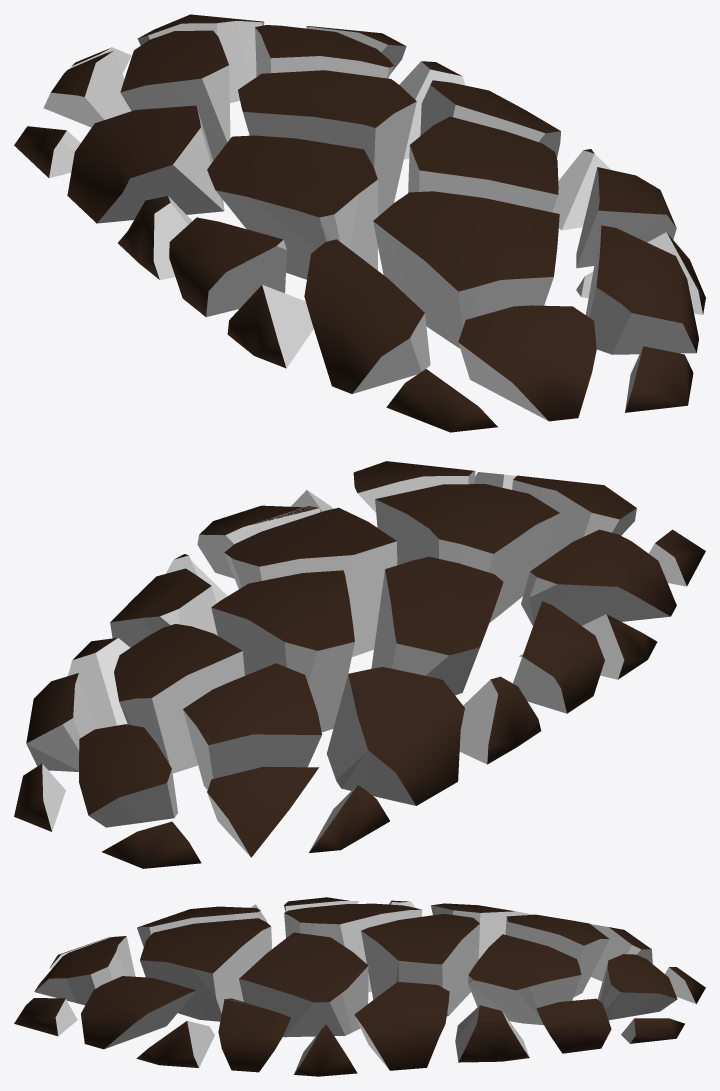
File: Buriedgraveshards.fbx
The picture shows the model from 3 angles, top to bottom: view 1: azimuth 30°, elevation 25°; view 2: azimuth 150°, elevation 25°; view 3: azimuth 270°, elevation 25°; orthographic projection. The views are drawn at different scales.
Parts seen in each view (by area): view 1: buried grave2_cell.009, buried grave2_cell.008, buried grave2_cell.012, buried grave2_cell.013, buried grave2_cell, buried grave2_cell.004, buried grave2_cell.014, buried grave2_cell.010, buried grave2_cell.007, buried grave2_cell.003, buried grave2_cell.005, buried grave2_cell.006 (+12 smaller); view 2: buried grave2_cell.012, buried grave2_cell.009, buried grave2_cell, buried grave2_cell.008, buried grave2_cell.007, buried grave2_cell.010, buried grave2_cell.006, buried grave2_cell.013, buried grave2_cell.011, buried grave2_cell.003, buried grave2_cell.002, buried grave2_cell.015 (+12 smaller); view 3: buried grave2_cell.010, buried grave2_cell.009, buried grave2_cell, buried grave2_cell.006, buried grave2_cell.015, buried grave2_cell.014, buried grave2_cell.004, buried grave2_cell.008, buried grave2_cell.005, buried grave2_cell.011, buried grave2_cell.007, buried grave2_cell.021 (+10 smaller).
Part boxes in pixels (<box>): buried grave2_cell.009: <box>373,191,559,348</box>; buried grave2_cell.008: <box>207,135,377,279</box>; buried grave2_cell.012: <box>67,105,224,223</box>; buried grave2_cell.013: <box>304,239,430,393</box>; buried grave2_cell: <box>238,70,416,216</box>; buried grave2_cell.004: <box>458,305,596,421</box>; buried grave2_cell.014: <box>585,225,698,354</box>; buried grave2_cell.010: <box>408,116,558,212</box>; buried grave2_cell.007: <box>120,30,230,160</box>; buried grave2_cell.003: <box>169,217,286,317</box>; buried grave2_cell.005: <box>576,167,676,268</box>; buried grave2_cell.006: <box>255,25,393,78</box>; buried grave2_cell.012: <box>326,667,464,805</box>; buried grave2_cell.009: <box>375,484,559,622</box>; buried grave2_cell: <box>211,570,354,732</box>; buried grave2_cell.008: <box>371,556,503,695</box>; buried grave2_cell.007: <box>183,663,321,789</box>; buried grave2_cell.010: <box>224,507,397,656</box>; buried grave2_cell.006: <box>114,624,244,773</box>; buried grave2_cell.013: <box>521,529,676,625</box>; buried grave2_cell.011: <box>79,724,177,827</box>; buried grave2_cell.003: <box>513,601,604,713</box>; buried grave2_cell.002: <box>207,766,318,857</box>; buried grave2_cell.015: <box>110,568,217,647</box>; buried grave2_cell.010: <box>239,932,368,1037</box>; buried grave2_cell.009: <box>140,918,271,1021</box>; buried grave2_cell: <box>361,914,479,1016</box>; buried grave2_cell.006: <box>468,934,581,1025</box>; buried grave2_cell.015: <box>354,982,449,1070</box>; buried grave2_cell.014: <box>81,976,196,1049</box>; buried grave2_cell.004: <box>34,936,135,1005</box>; buried grave2_cell.008: <box>284,903,422,992</box>; buried grave2_cell.005: <box>218,998,290,1072</box>; buried grave2_cell.011: <box>597,954,677,1020</box>; buried grave2_cell.007: <box>505,914,609,997</box>; buried grave2_cell.021: <box>455,1005,529,1062</box>.
Size of the model in its own units: 0.2298 by 0.0564 by 0.463.
